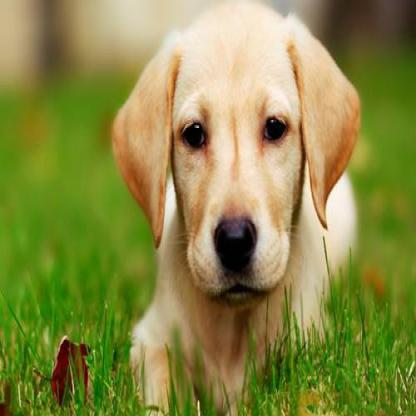Labarador Retriever: (111, 5, 357, 406)
